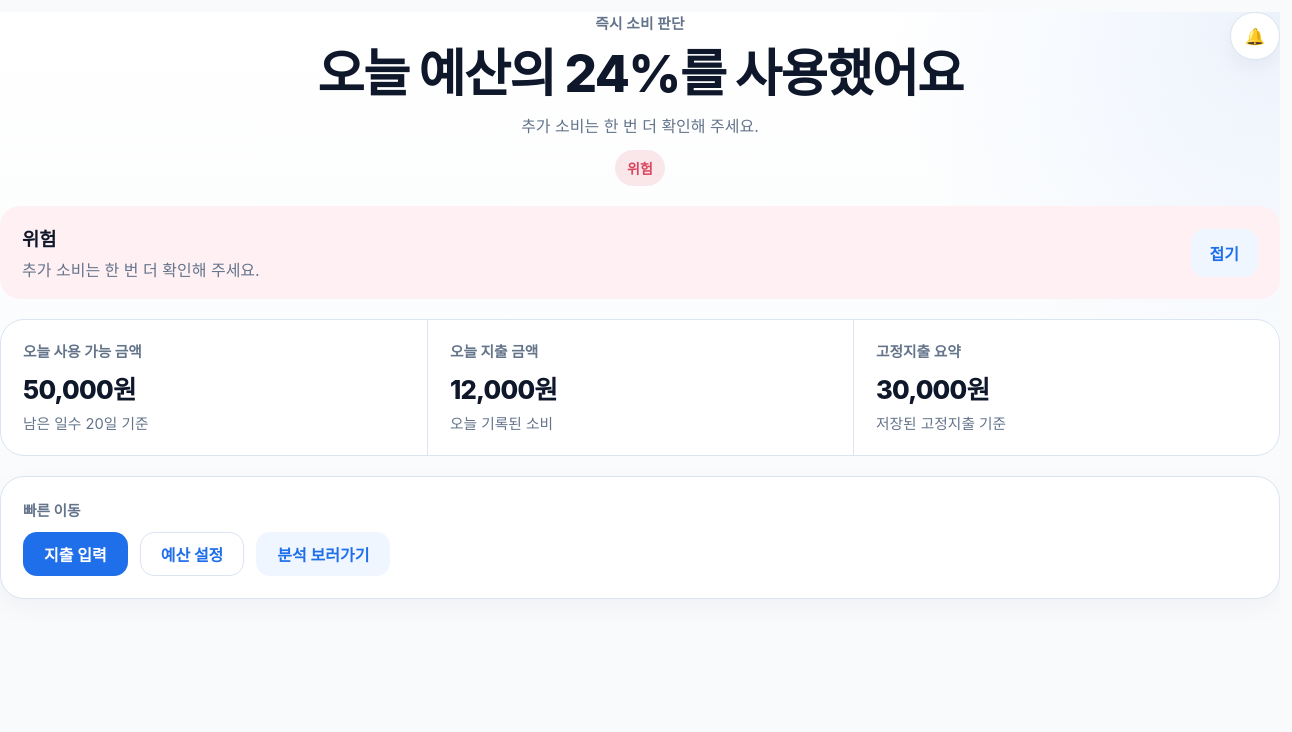
Scenario: Home › toggles the alert banner without persisting dismissal across refresh
Check: the text "추가 소비는 한 번 더 확인해 주세요." is shown 2 times, box [521,114,759,140]; [22,257,260,281]
What coordinates should you click on to do the following:
click the button "접기"
I would click on:
 (1224, 252)
Its box is [1190,228,1258,276].
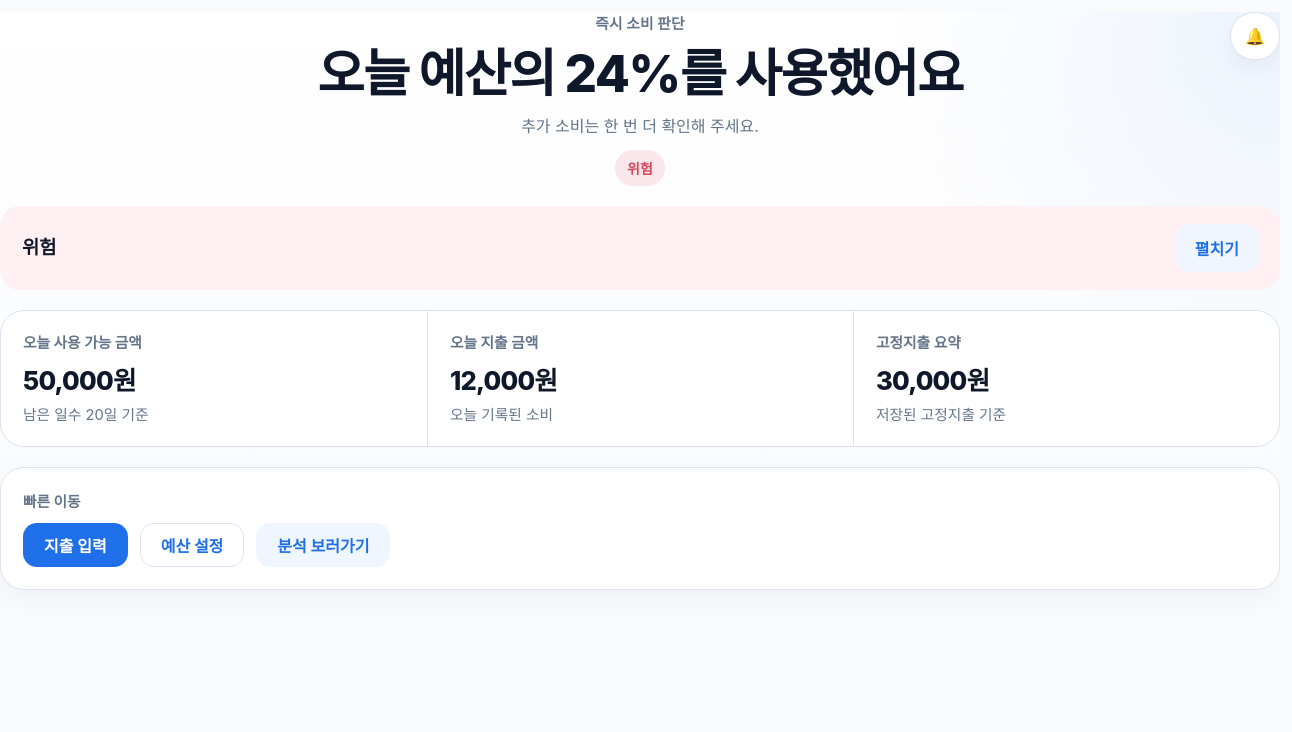
Check: the text "추가 소비는 한 번 더 확인해 주세요." is shown once, box [521,114,759,140]
Check: the button "펼치기" is shown, box [1176,224,1258,272]
